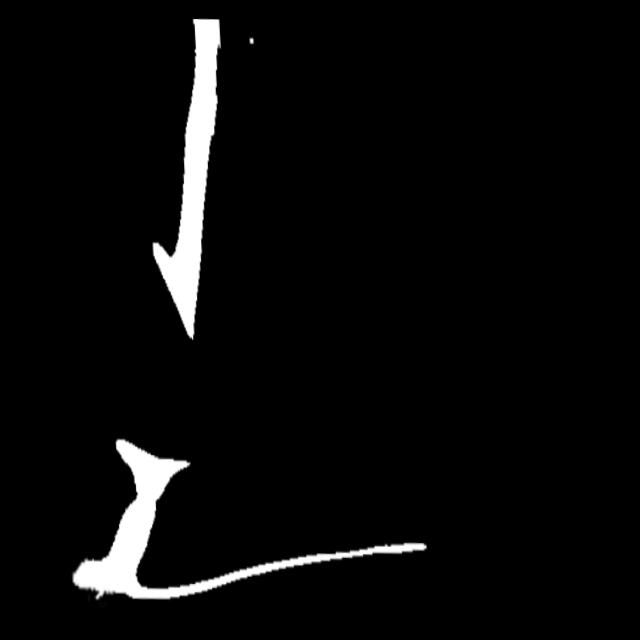sup_pli: (89, 582, 108, 606)
